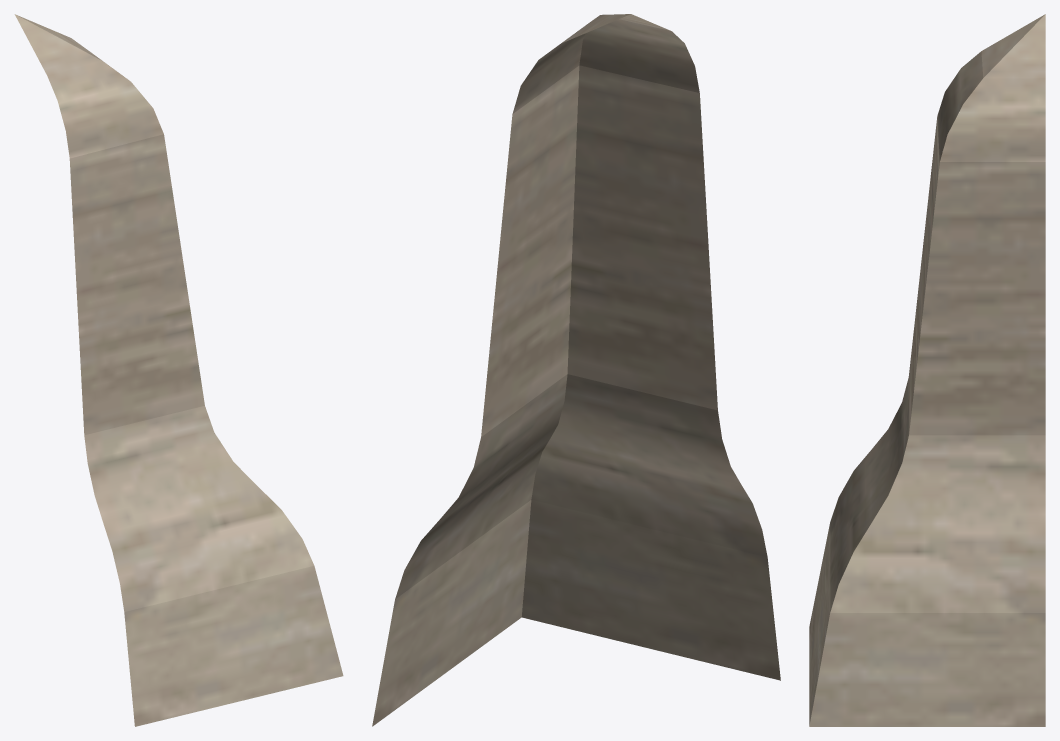
The model's file is WallSkirtCorner2.fbx.
The picture shows the model from 3 angles, left to right: view 1: azimuth 30°, elevation 25°; view 2: azimuth 150°, elevation 25°; view 3: azimuth 270°, elevation 25°; orthographic projection. The views are drawn at different scales.
Parts seen in each view (by area): view 1: SM_Wall_Skirt_Corner; view 2: SM_Wall_Skirt_Corner; view 3: SM_Wall_Skirt_Corner.
Part boxes in pixels (x1,y1,x2,y2): SM_Wall_Skirt_Corner: [14, 14, 343, 726]; SM_Wall_Skirt_Corner: [372, 14, 780, 726]; SM_Wall_Skirt_Corner: [809, 14, 1045, 726].
Size of the model in its own units: 3.53 by 10.1 by 3.53.
